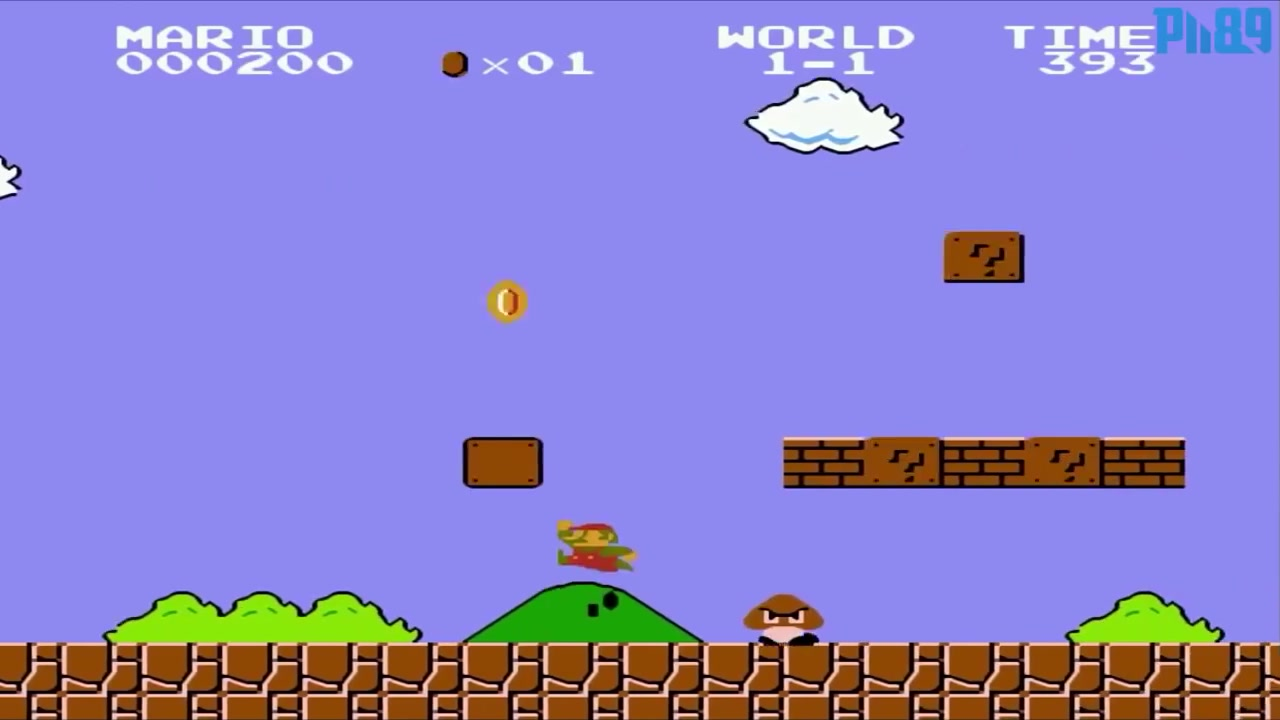mario: (543, 509, 642, 584)
